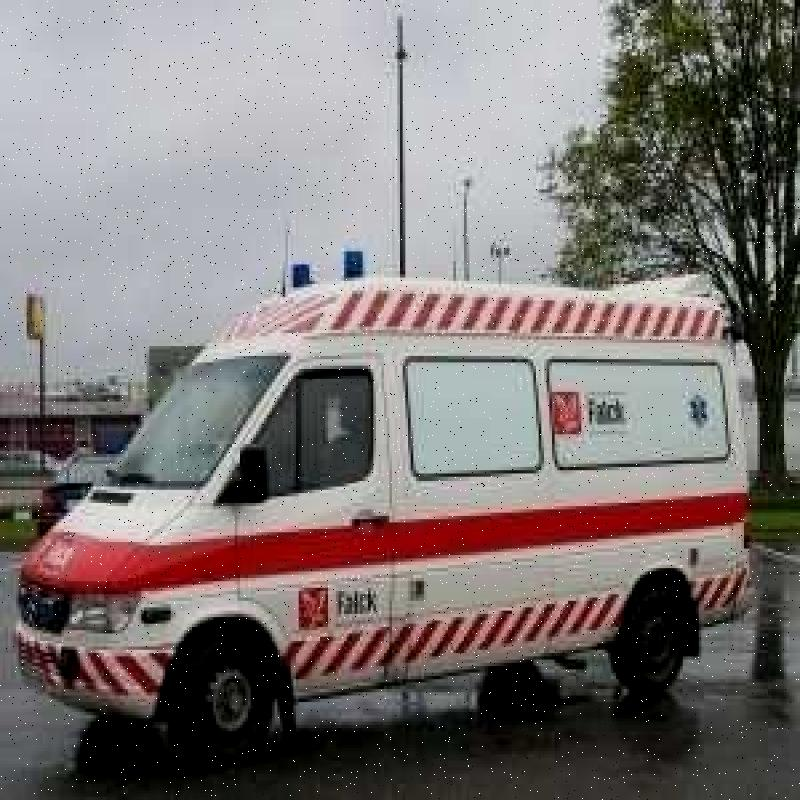AmbulanceSiren: (340, 248, 377, 299), (285, 251, 317, 306)
